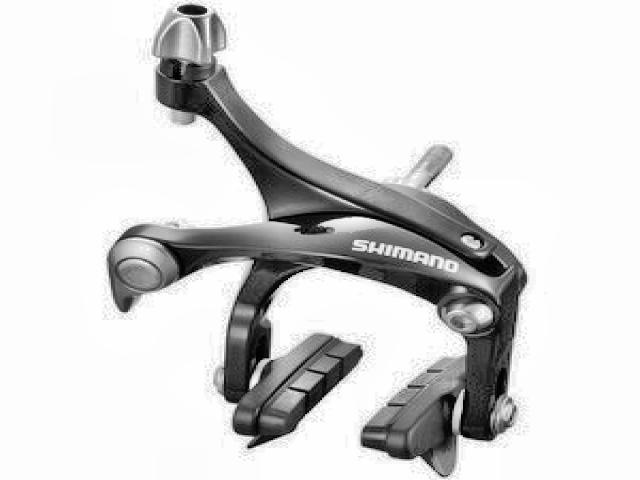rim_brake: (106, 2, 529, 479)
